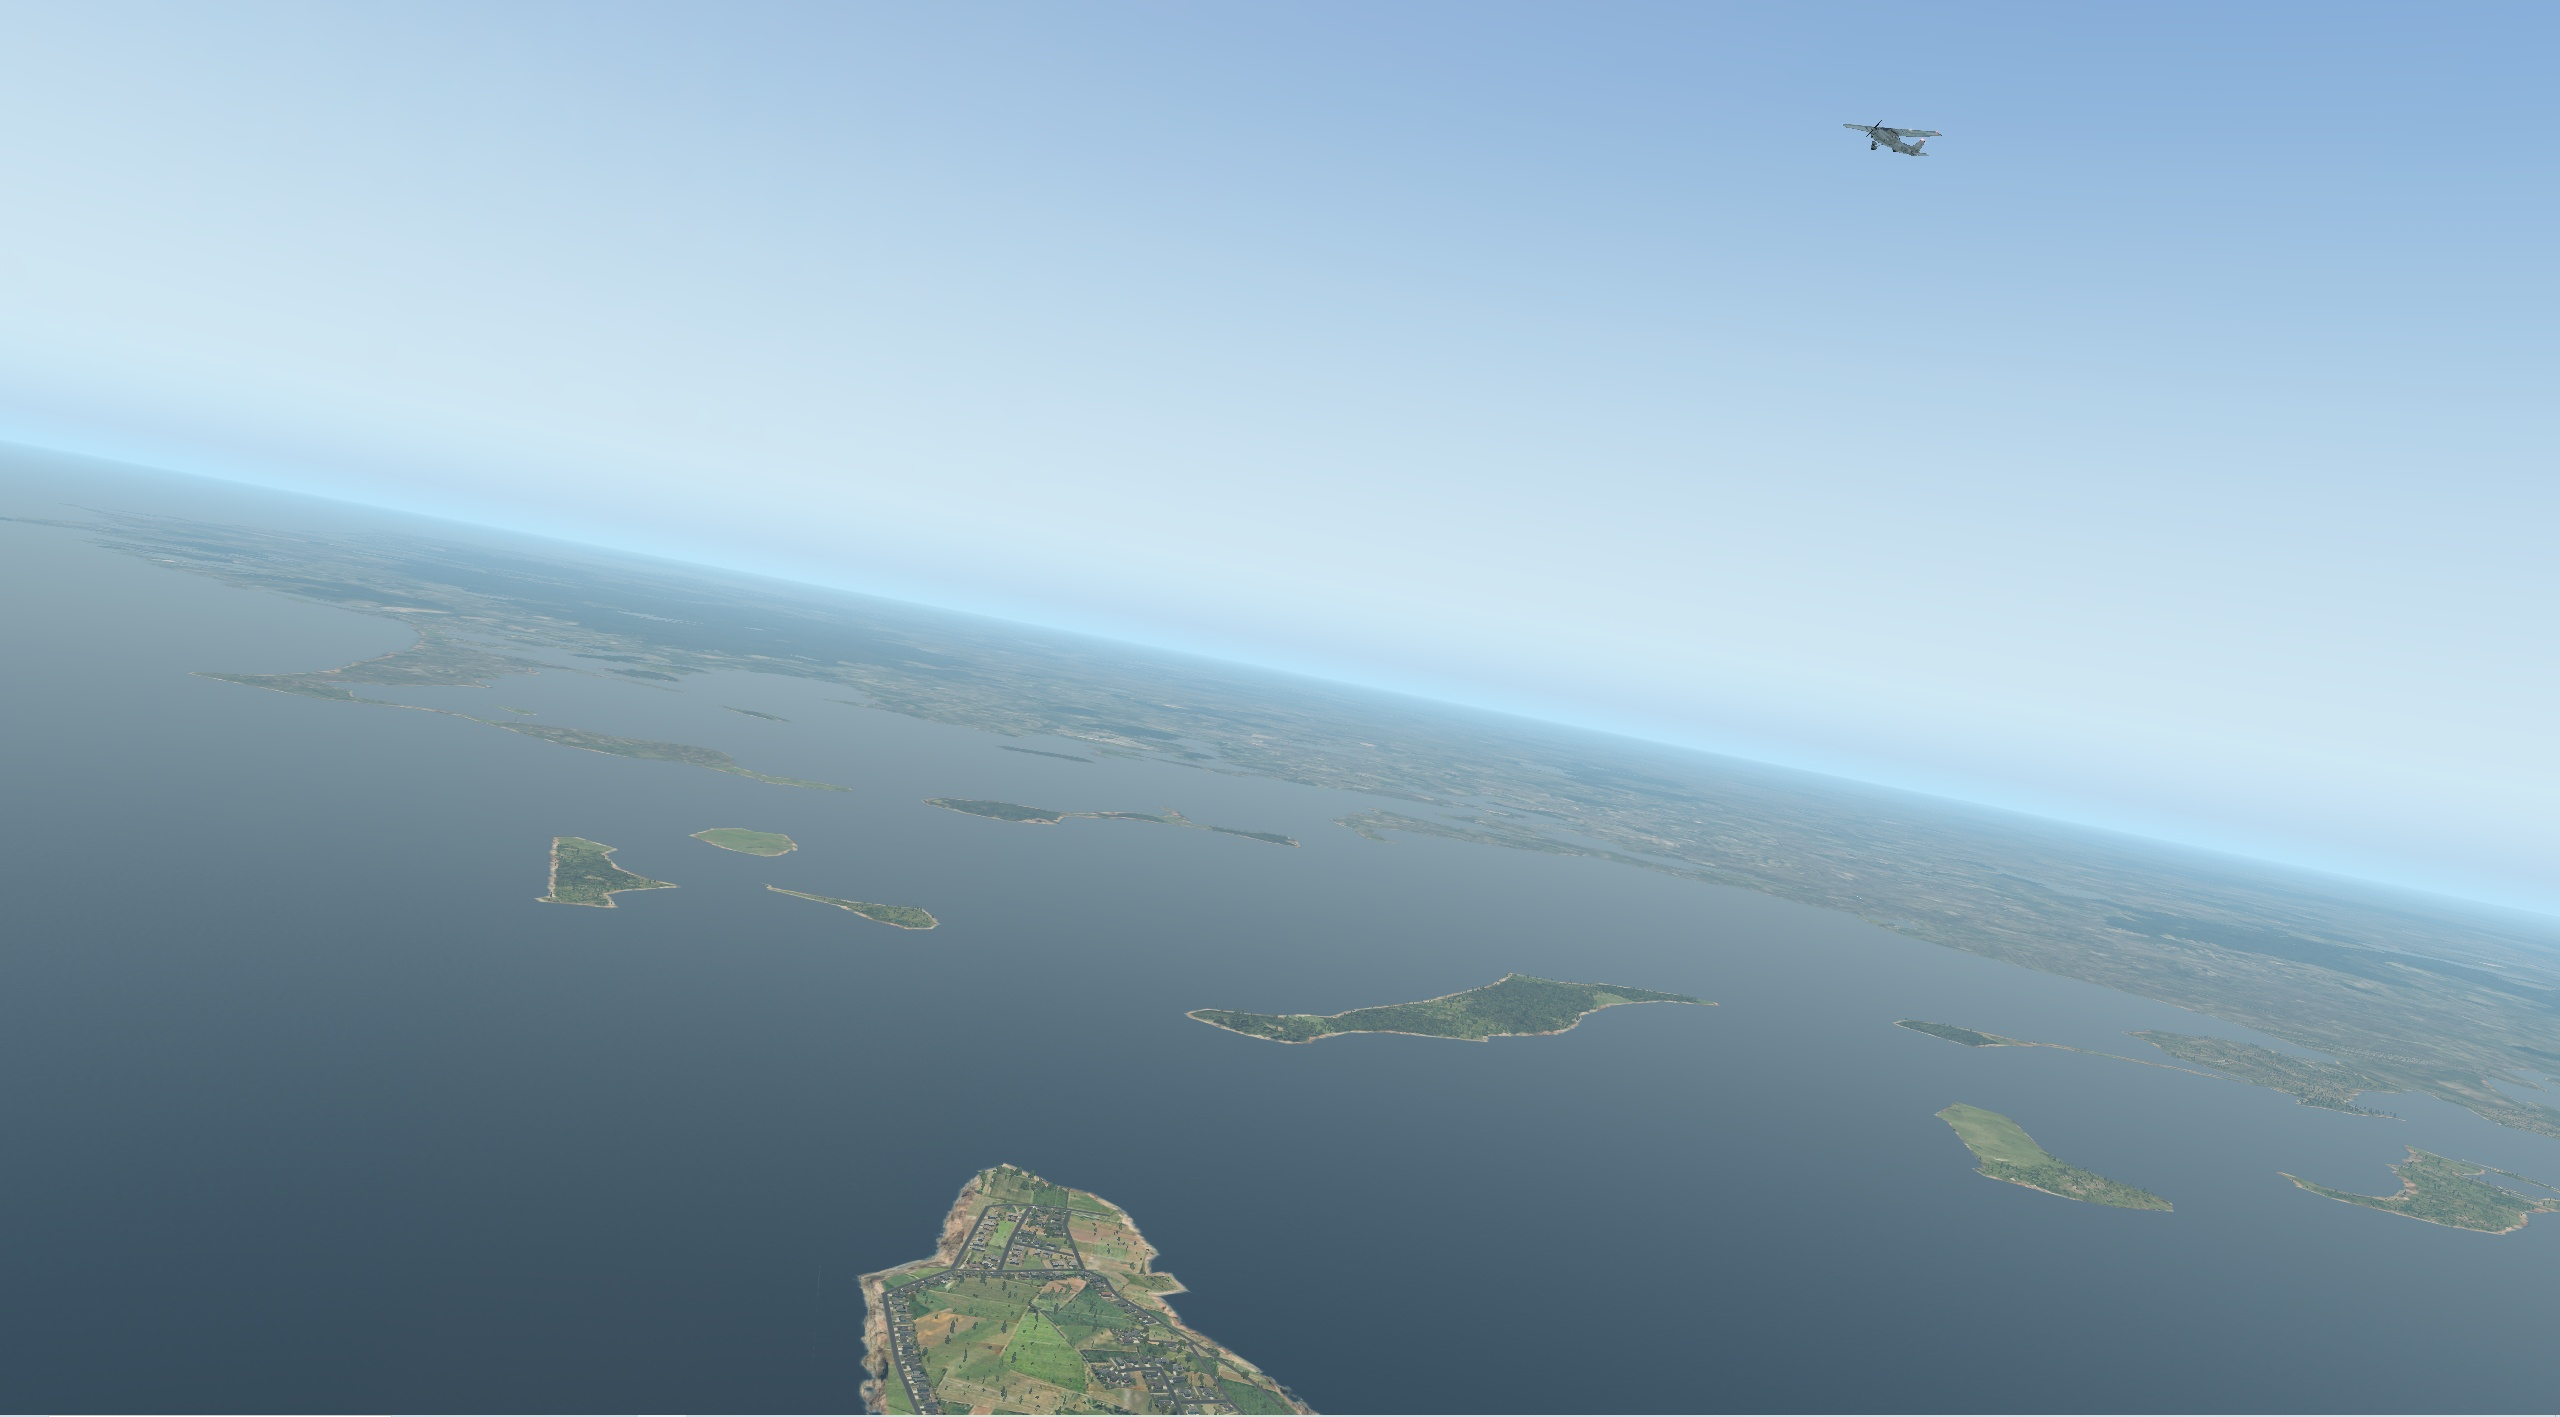aircraft: (1825, 113, 1947, 159)
